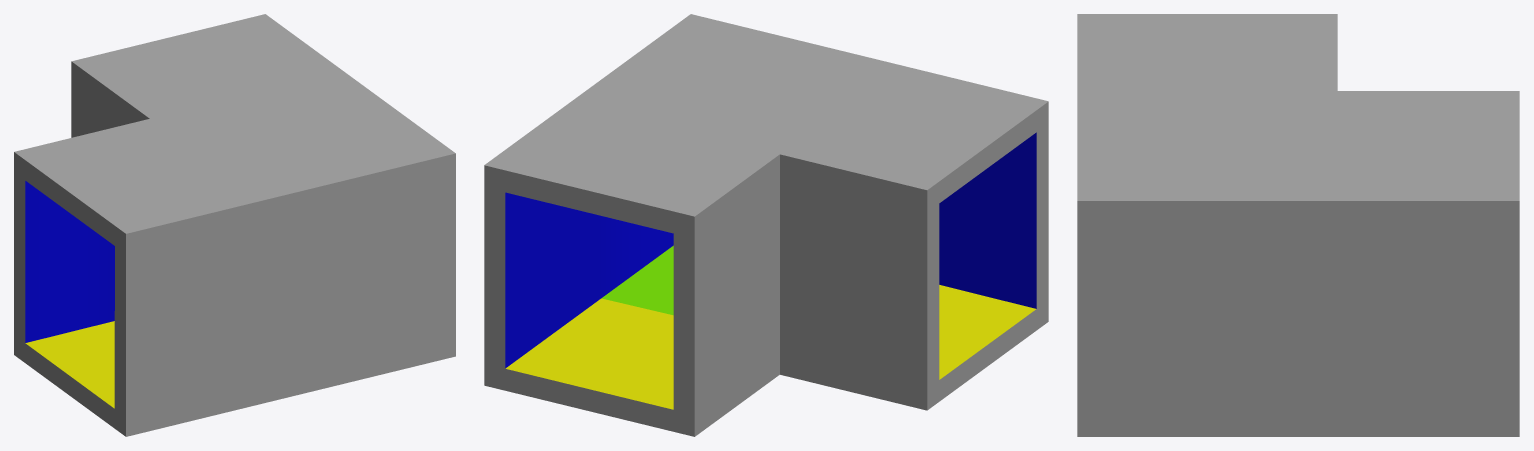
Rendered from Bottom Left.fbx.
The picture shows the model from 3 angles, left to right: view 1: azimuth 30°, elevation 25°; view 2: azimuth 150°, elevation 25°; view 3: azimuth 270°, elevation 25°; orthographic projection. The views are drawn at different scales.
Parts seen in each view (by area): view 1: Corner; view 2: Corner; view 3: Corner.
Boxes of the visible parts, x1,y1,x2,y2 form: Corner: [14, 14, 455, 436]; Corner: [484, 14, 1048, 436]; Corner: [1077, 14, 1519, 436].
Bounding box in the file's own units: 8.5 × 5 × 8.5.
